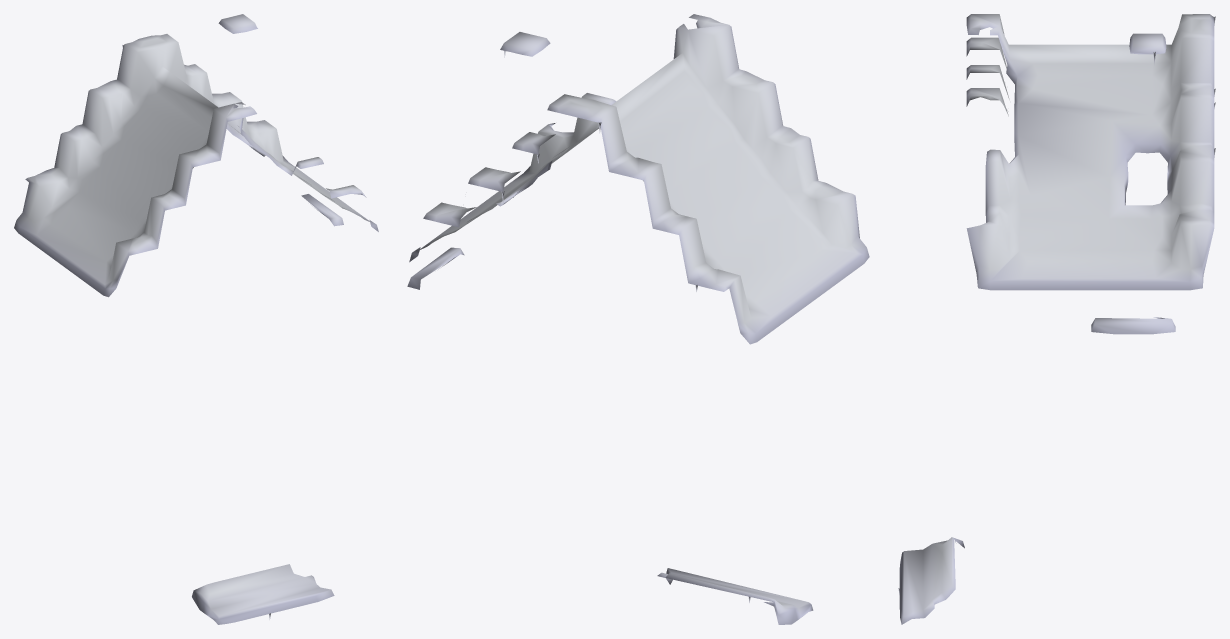
The model's file is category.lending.m.snow.glb.
The picture shows the model from 3 angles, left to right: view 1: azimuth 30°, elevation 25°; view 2: azimuth 150°, elevation 25°; view 3: azimuth 270°, elevation 25°; orthographic projection. The views are drawn at different scales.
Parts seen in each view (by area): view 1: snow; view 2: snow, tier.2; view 3: snow, tier.2.
Boxes of the visible parts, x1,y1,x2,y2 form: snow: [14, 14, 378, 624]; snow: [409, 14, 869, 624]; tier.2: [407, 247, 464, 289]; snow: [898, 14, 1215, 624]; tier.2: [1091, 317, 1175, 334].
Size of the model in its own units: 5.32 by 9 by 4.32.
